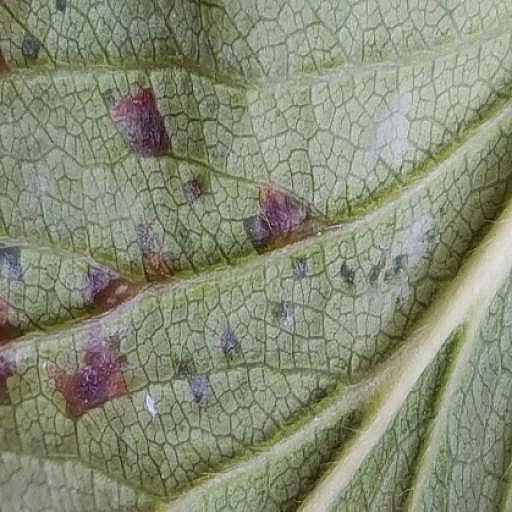Angular Leafspot: (62, 1, 511, 425)
